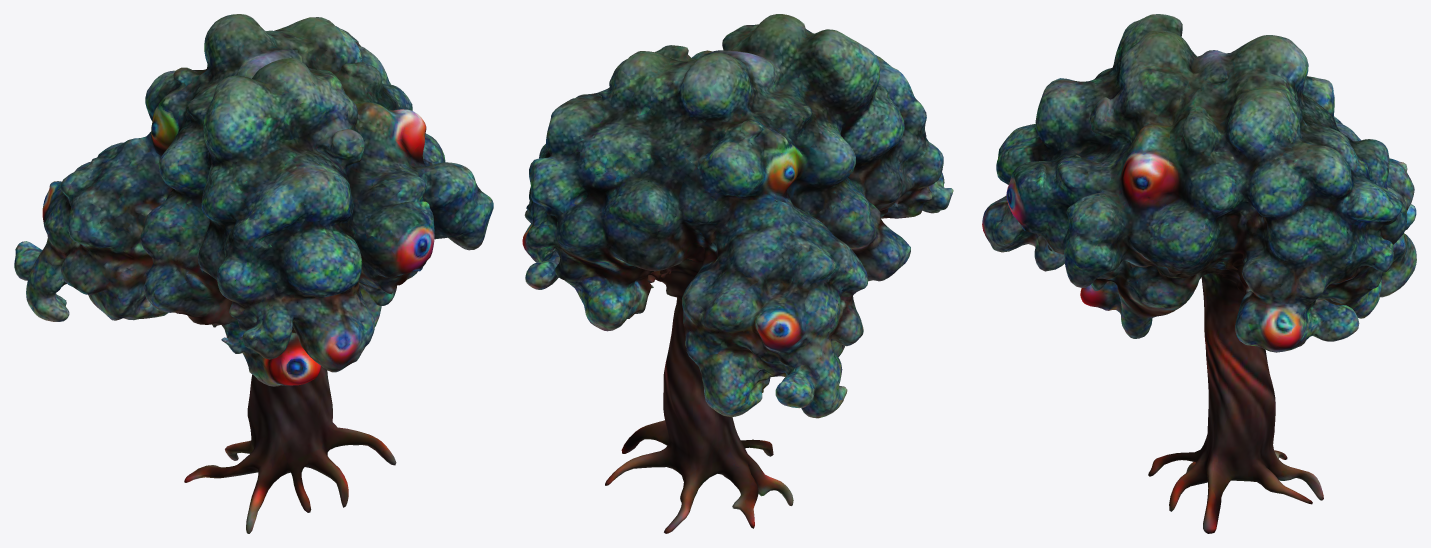
The model's file is treee.glb.
3 renders of one model, left to right at view 1: azimuth 30°, elevation 25°; view 2: azimuth 150°, elevation 25°; view 3: azimuth 270°, elevation 25°, orthographic. The views are drawn at different scales.
Visible parts, largest first — view 1: high_poly; view 2: high_poly; view 3: high_poly.
Part boxes in pixels (<box>): high_poly: <box>14,14,493,533</box>; high_poly: <box>522,14,953,533</box>; high_poly: <box>982,14,1416,533</box>.
Size of the model in its own units: 0.7693 by 1 by 0.8548.
1 material, 1 textured.
